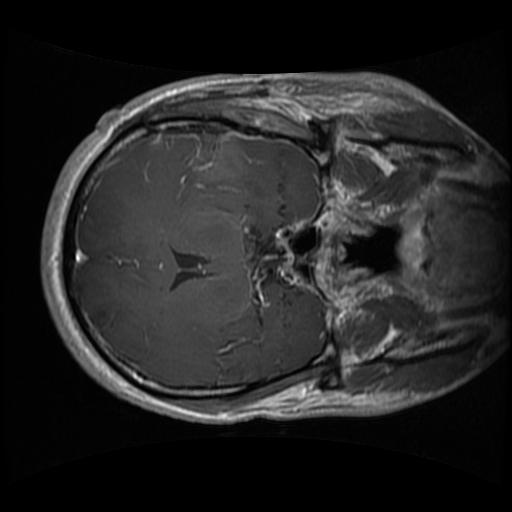glioma: (139, 122, 249, 200)
